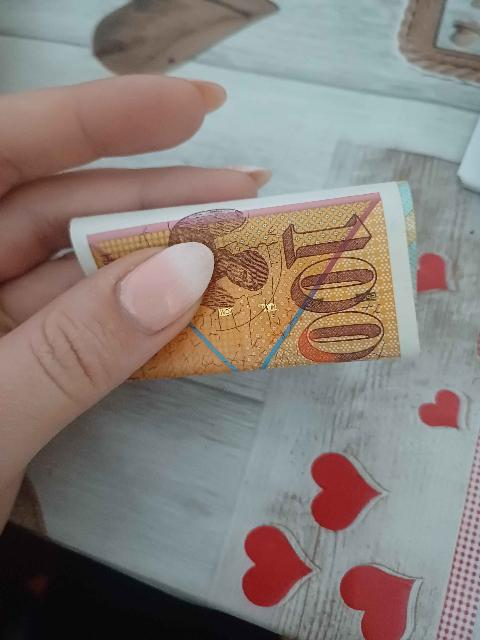1000_note: (71, 183, 418, 378)
